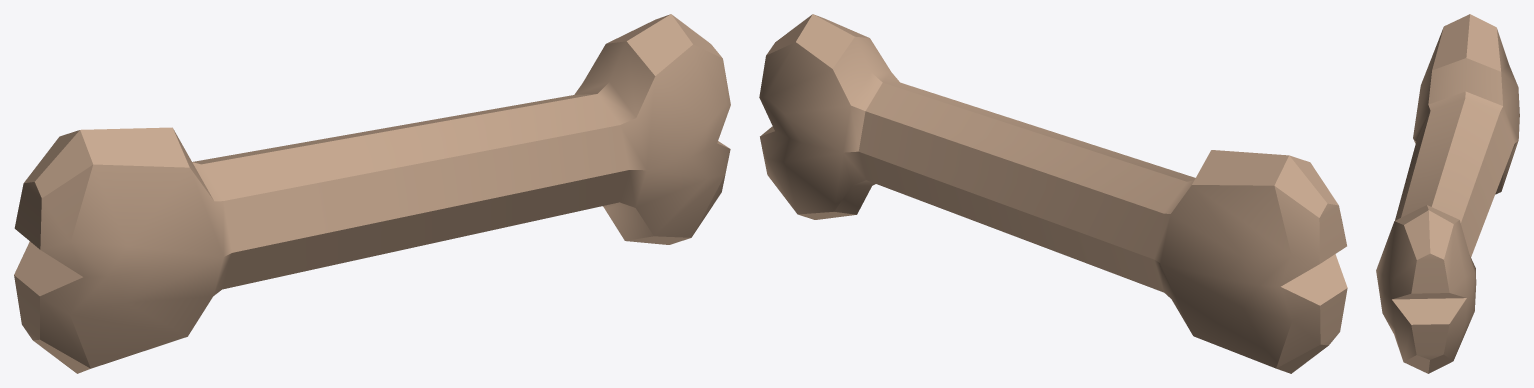
Rendered from Bone.fbx.
The picture shows the model from 3 angles, left to right: view 1: azimuth 30°, elevation 25°; view 2: azimuth 150°, elevation 25°; view 3: azimuth 270°, elevation 25°; orthographic projection. The views are drawn at different scales.
Visible parts, largest first — view 1: Bone; view 2: Bone; view 3: Bone.
Boxes of the visible parts, box(x1,y1,x2,y2) form: Bone: box(14, 14, 730, 373); Bone: box(759, 14, 1347, 373); Bone: box(1376, 14, 1519, 373).
Bounding box in the file's own units: 70.56 × 24.81 × 18.57.
